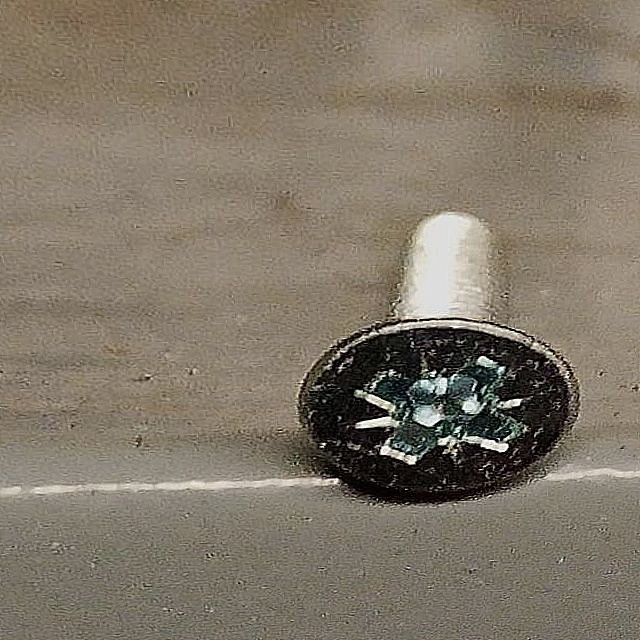pozidriv: (289, 314, 586, 507)
